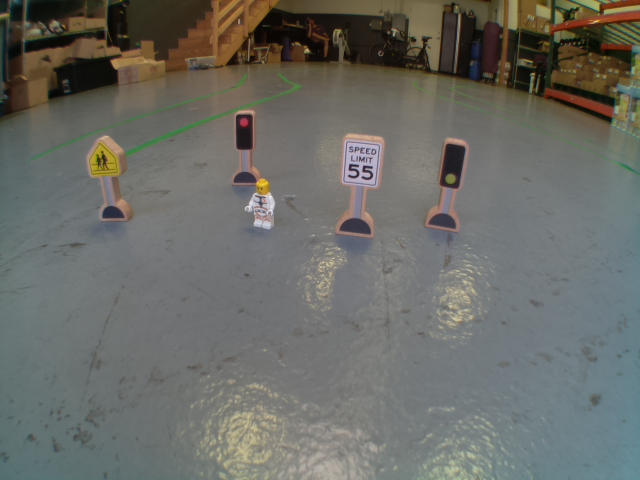Green Traffic Light: (434, 136, 468, 196)
Red Traffic Light: (230, 109, 259, 155)
Speed Limit 55: (337, 133, 384, 190)
YIELD: (81, 131, 125, 183)
person: (243, 177, 283, 230)
